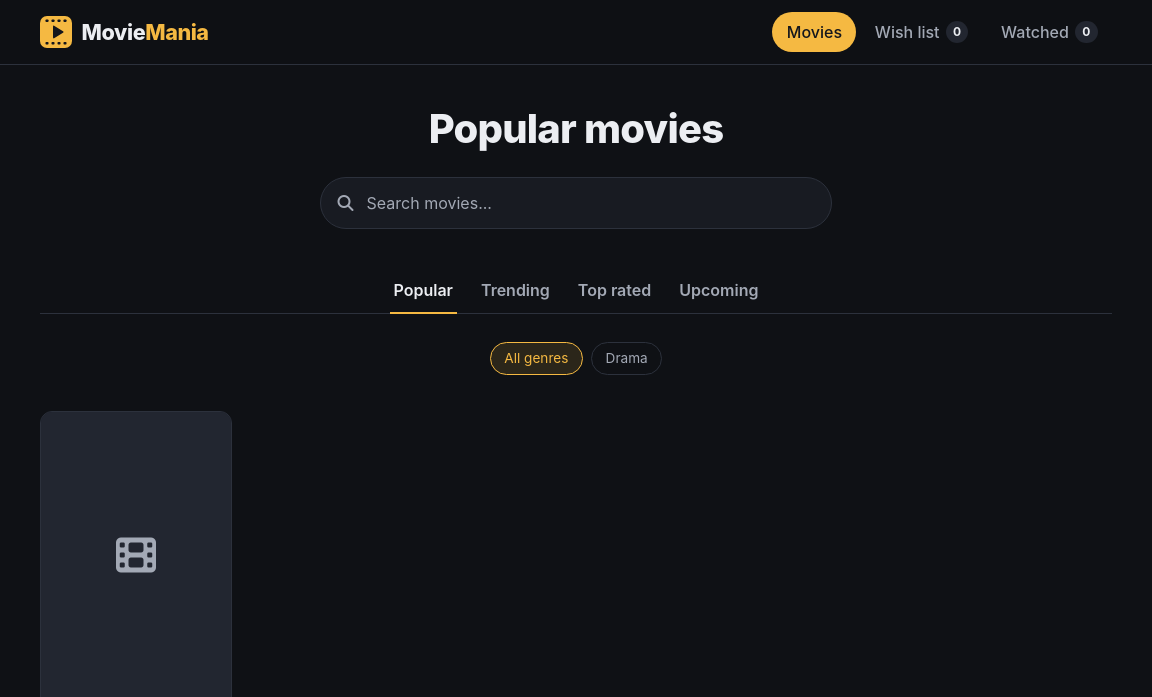
it: MovieMania › switches lists and filters by genre through the URL
The width and height of the screenshot is (1152, 697).
What coordinates should you click on to do the following:
click the link "Drama"
I would click on:
 (627, 359)
Its box is left=591, top=342, right=662, bottom=375.
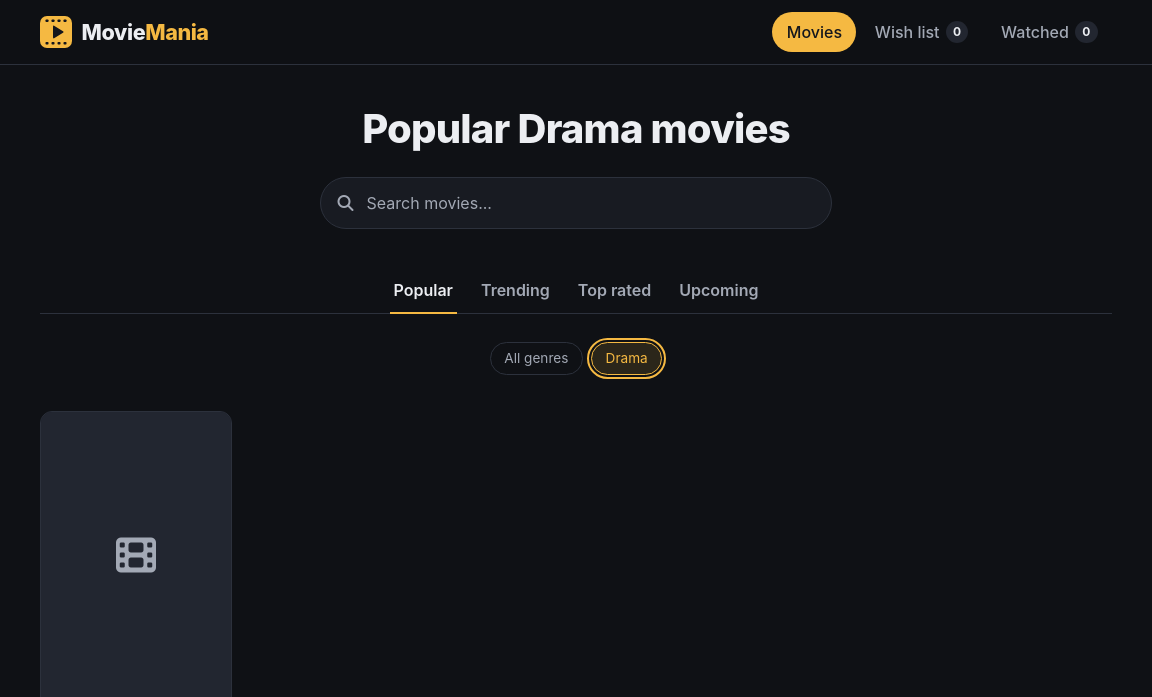
expect the heading "Popular Drama movies" is shown: met, box left=362, top=104, right=790, bottom=153
// The genre carries over to a list that can use it
What coordinates should you click on to do the following:
click the link "Top rated"
I would click on:
 (614, 290)
Its box is left=578, top=280, right=651, bottom=300.
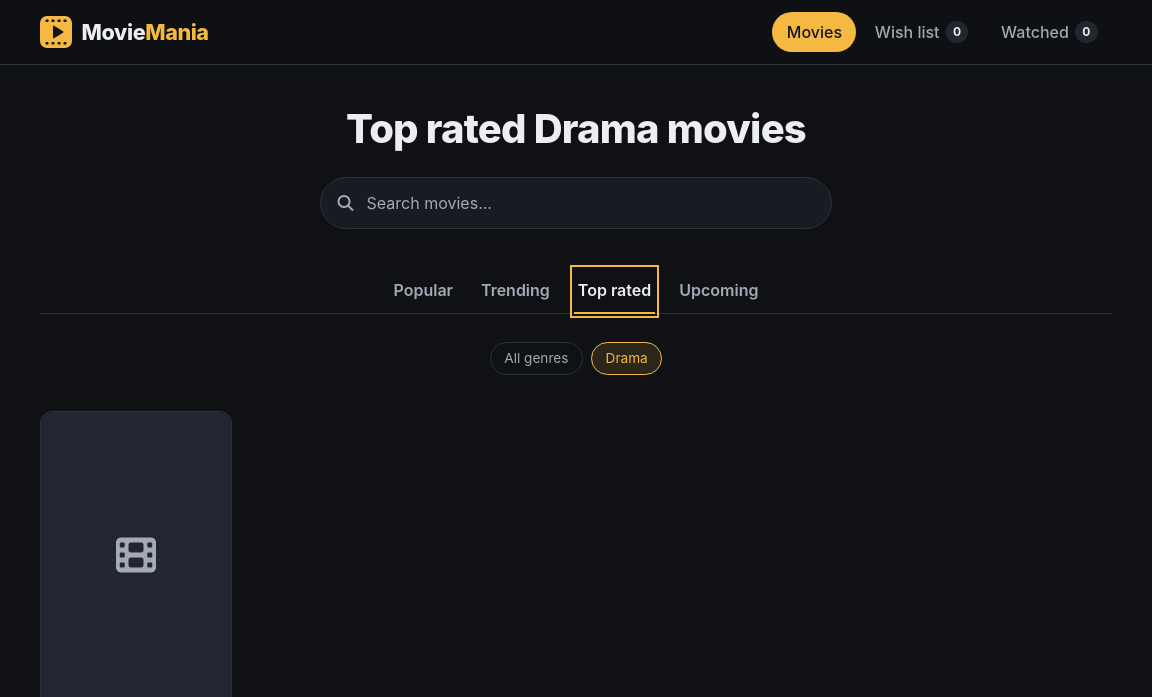
expect the heading "Top rated Drama movies" is shown: met, box left=346, top=104, right=806, bottom=153
// Trending can't filter by genre, so the filter disappears
What coordinates should you click on to do the following:
click the link "Trending"
I would click on:
 (515, 290)
Its box is left=481, top=280, right=550, bottom=300.
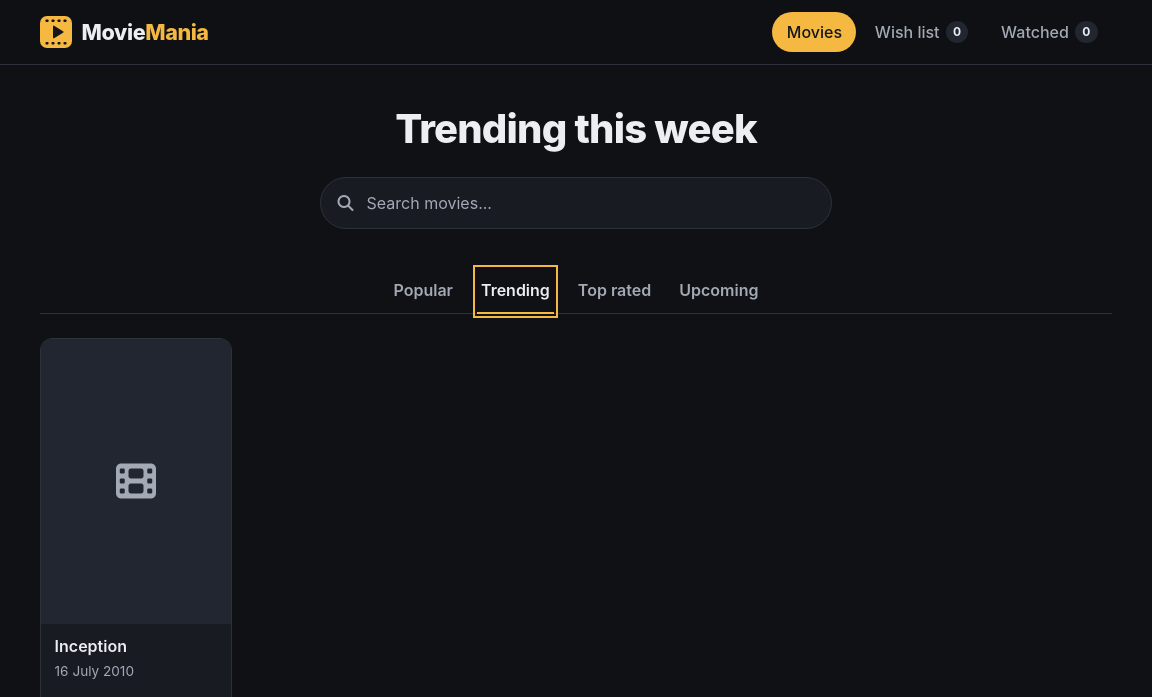
expect the heading "Trending this week" is shown: met, box left=395, top=104, right=757, bottom=153
